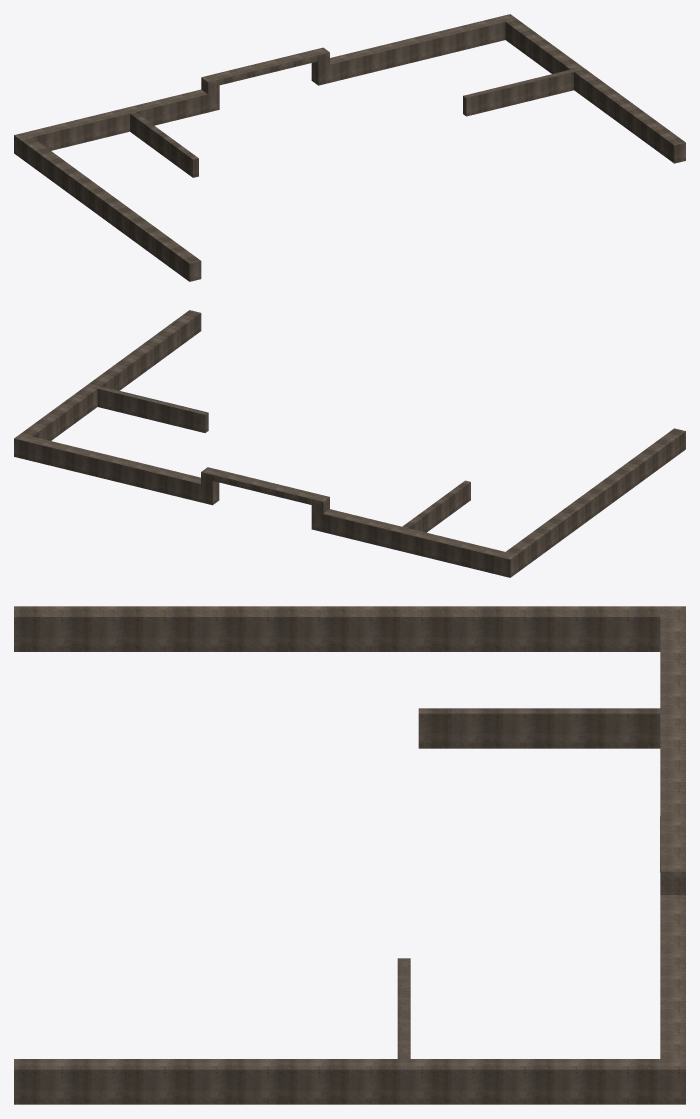
Rendered from Lumora Gates.glb.
3 renders of one model, top to bottom at view 1: azimuth 30°, elevation 25°; view 2: azimuth 150°, elevation 25°; view 3: azimuth 270°, elevation 25°, orthographic. The views are drawn at different scales.
Parts seen in each view (by area): view 1: Lumora Gates; view 2: Lumora Gates; view 3: Lumora Gates.
Boxes of the visible parts, left/top/right/bottom form: Lumora Gates: left=14, top=14, right=685, bottom=281; Lumora Gates: left=14, top=310, right=685, bottom=577; Lumora Gates: left=14, top=606, right=685, bottom=1104.
Size of the model in its own units: 85.32 by 5 by 52.27.
Materials: 1 (1 with a texture image).
